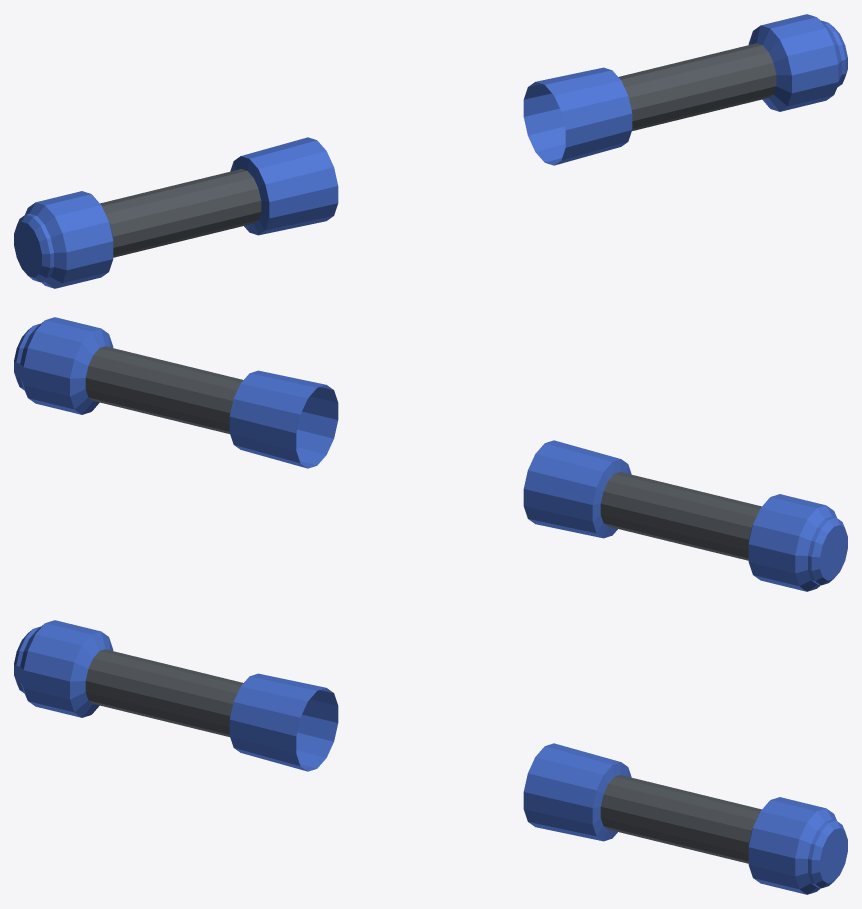
The model's file is Personal_Vehicle_03_Footrest_Blue.fbx.
3 renders of one model, top to bottom at view 1: azimuth 30°, elevation 25°; view 2: azimuth 150°, elevation 25°; view 3: azimuth 330°, elevation 25°, orthographic.
Parts seen in each view (by area): view 1: Personal_Vehicle_03_Footrest_Blue; view 2: Personal_Vehicle_03_Footrest_Blue; view 3: Personal_Vehicle_03_Footrest_Blue.
Part boxes in pixels (<box>): Personal_Vehicle_03_Footrest_Blue: <box>14,14,847,288</box>; Personal_Vehicle_03_Footrest_Blue: <box>14,317,847,591</box>; Personal_Vehicle_03_Footrest_Blue: <box>14,620,847,894</box>.
Bounding box in the file's own units: 90.39 × 8.62 × 8.4.
1 material, 1 textured.
